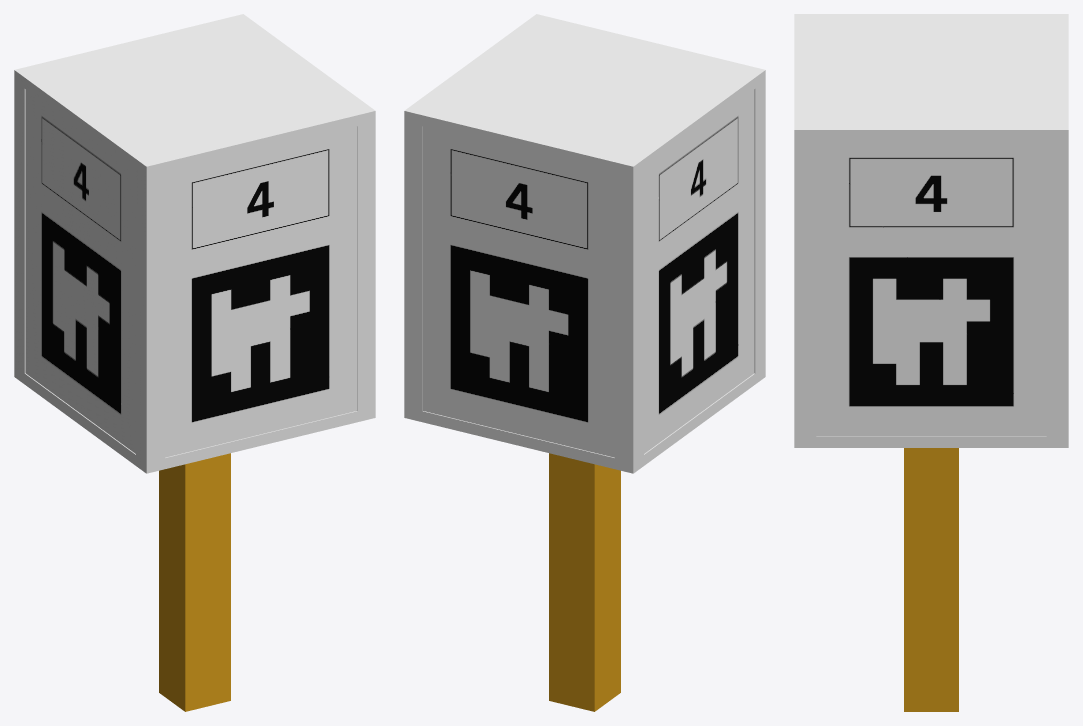
Rendered from pole54.dae.
The picture shows the model from 3 angles, left to right: view 1: azimuth 30°, elevation 25°; view 2: azimuth 150°, elevation 25°; view 3: azimuth 270°, elevation 25°; orthographic projection. The views are drawn at different scales.
Visible parts, largest first — view 1: marsPole1; view 2: marsPole1; view 3: marsPole1.
Part boxes in pixels (x1,y1,x2,y2): marsPole1: [14, 14, 375, 711]; marsPole1: [404, 14, 765, 711]; marsPole1: [794, 14, 1068, 711].
Size of the model in its own units: 0.25 by 0.25 by 0.632.
Materials: 2 (1 with a texture image).
